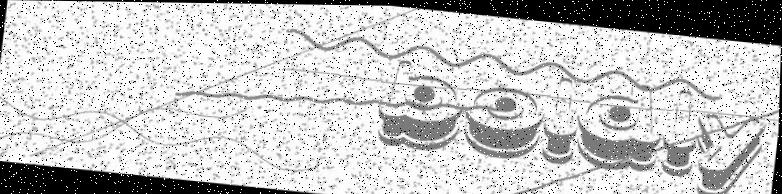b: (373, 55, 469, 154)
d: (573, 75, 665, 171)
l: (538, 72, 585, 165), (659, 85, 703, 177)
o: (459, 81, 547, 160)
y: (688, 102, 768, 194)
